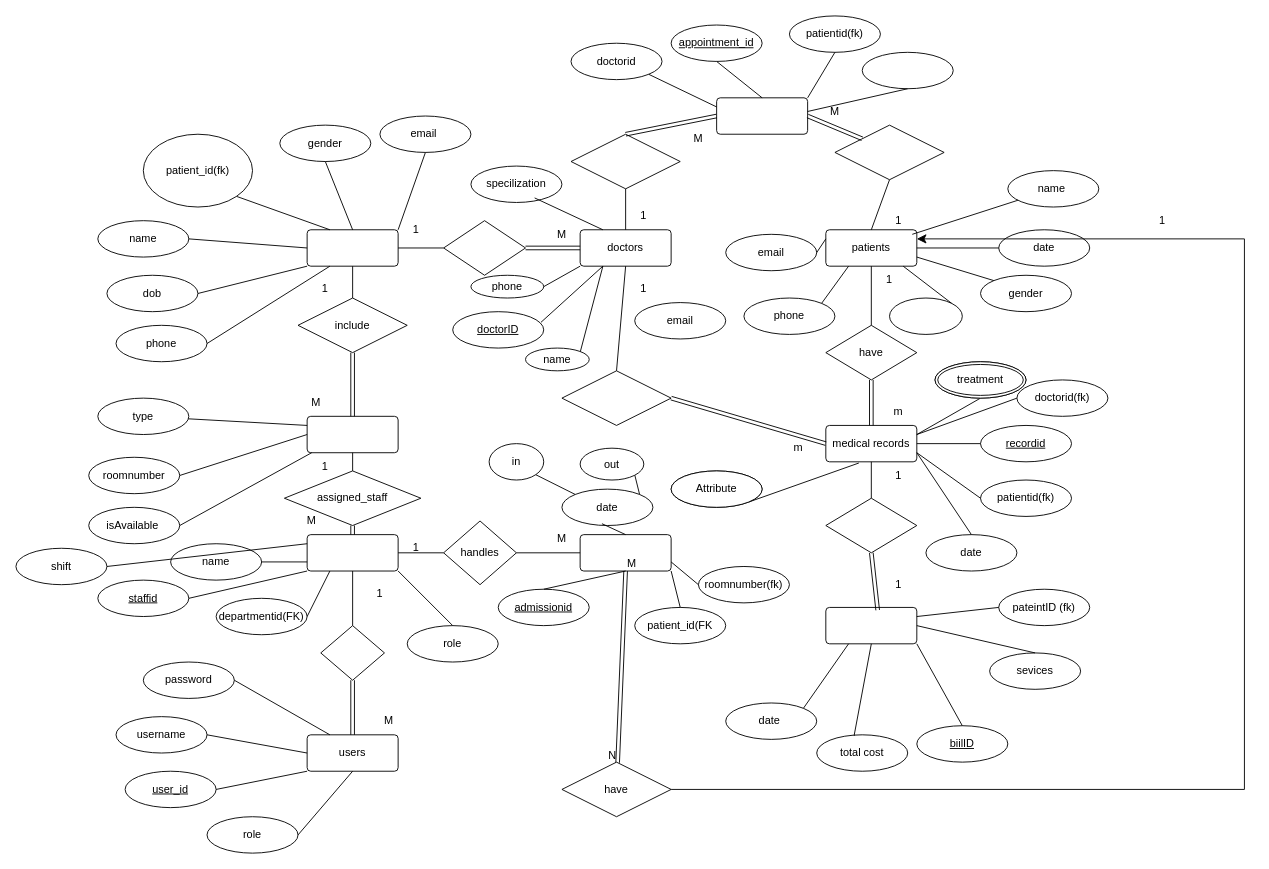
Image size: 1269x869. Some labels were removed from this diagram. Here are the shapes that lost their labels. From the top down, the centre of each, then its label:
At [907,70]: "datetime".
At [762,115]: "appointments".
At [625,161]: "schedules".
At [889,152]: "booked_by".
At [352,247]: "departments".
At [484,247]: "assigned_to".
At [925,315]: "patient_id".
At [616,397]: "writes".
At [352,434]: "rooms".
At [871,525]: "outputs".
At [352,552]: "staff".
At [625,552]: "Admissions".
At [871,625]: "billing".
At [352,652]: "assigned to".
